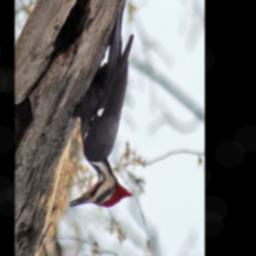Woodpecker: (67, 6, 135, 208)
